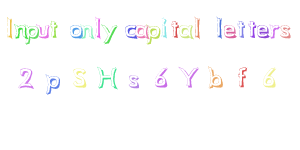2: (16, 67, 37, 90)
6: (262, 66, 277, 89), (154, 66, 169, 88)
H: (95, 65, 119, 90)
I: (3, 14, 17, 40)
S: (72, 68, 88, 87)
Y: (178, 65, 199, 89)
a: (134, 23, 149, 39), (179, 23, 193, 40)
b: (207, 64, 225, 90)
c: (122, 24, 137, 39)
e: (223, 23, 237, 39), (257, 23, 269, 39)
f: (234, 65, 250, 89)
i: (158, 16, 169, 39)
l: (192, 14, 203, 40), (214, 14, 223, 39), (93, 15, 102, 38)
n: (80, 23, 94, 40), (13, 23, 27, 39)
o: (69, 23, 83, 41)
p: (44, 73, 60, 96), (24, 24, 39, 45), (147, 24, 160, 43)
r: (269, 23, 279, 39)
s: (280, 23, 292, 40), (127, 73, 140, 88)
t: (170, 18, 180, 40), (236, 18, 246, 39), (246, 18, 256, 39), (49, 17, 58, 39)
u: (36, 23, 50, 40)
y: (102, 23, 117, 44)
